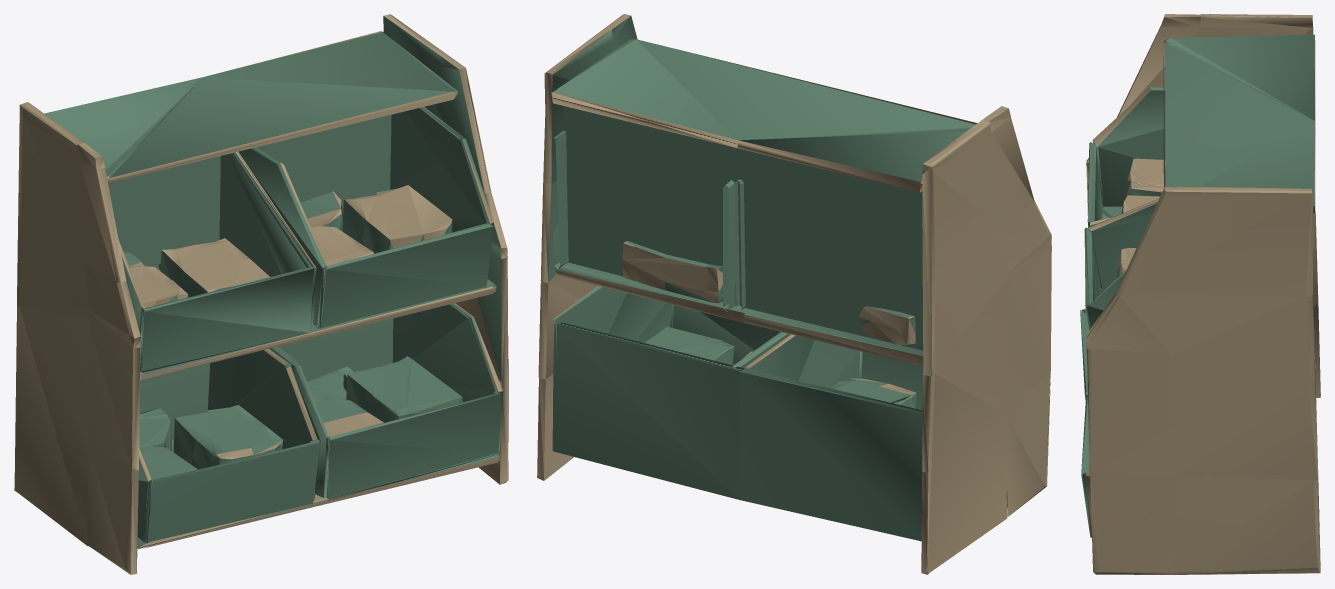
File: factory-parts-organizer.glb
3 renders of one model, left to right at view 1: azimuth 30°, elevation 25°; view 2: azimuth 150°, elevation 25°; view 3: azimuth 270°, elevation 25°, orthographic. The views are drawn at different scales.
Visible parts, largest first — view 1: paper-room-decoration; view 2: paper-room-decoration; view 3: paper-room-decoration.
Part boxes in pixels (bbox=[...]): paper-room-decoration: bbox=[14, 14, 508, 574]; paper-room-decoration: bbox=[537, 14, 1051, 574]; paper-room-decoration: bbox=[1080, 14, 1320, 574].
Size of the model in its own units: 1.1 by 1.08 by 0.6134.
